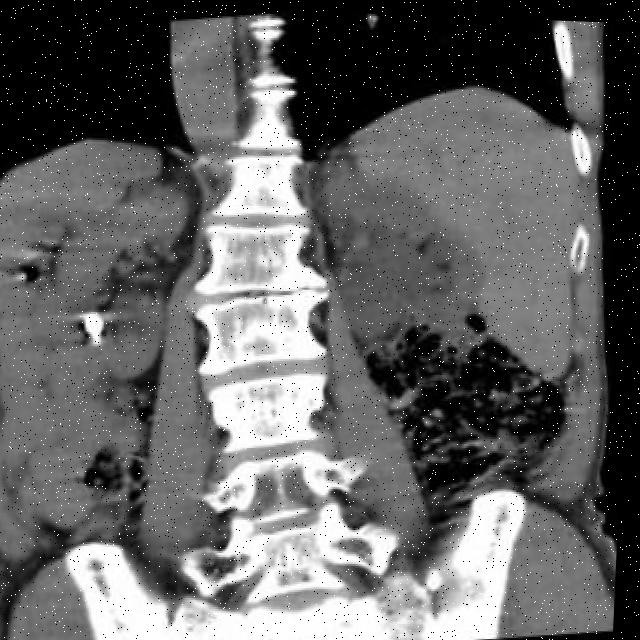Tas_Var: (79, 310, 110, 339), (92, 334, 105, 348)
